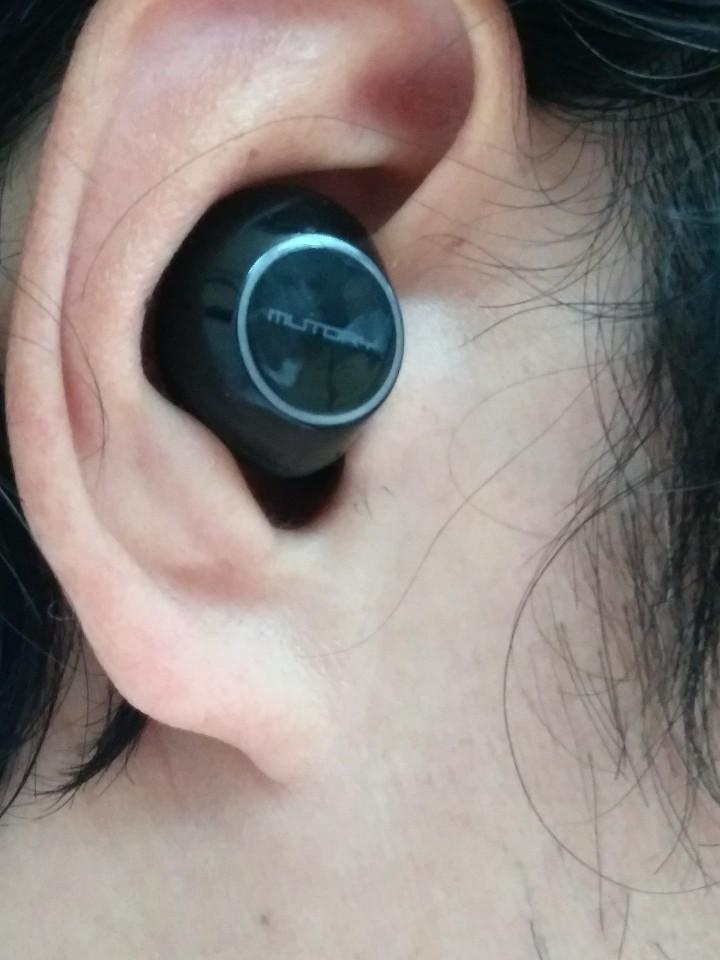earphone: (121, 151, 447, 542)
